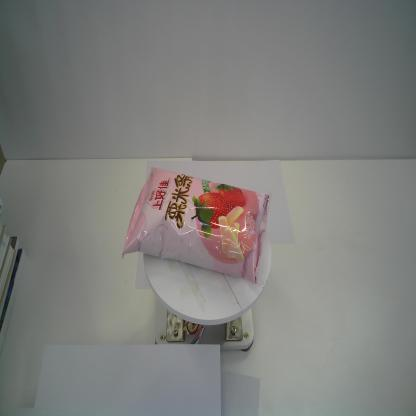Puffed Food: (122, 166, 270, 285)
